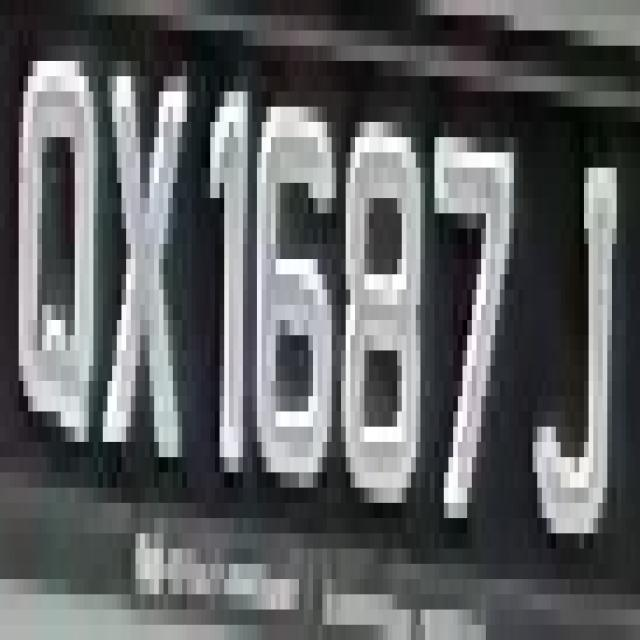1: (205, 31, 248, 518)
6: (243, 76, 346, 534)
7: (425, 76, 509, 518)
8: (327, 76, 430, 534)
J: (523, 92, 626, 518)
Q: (0, 30, 107, 472)
X: (108, 15, 192, 518)
